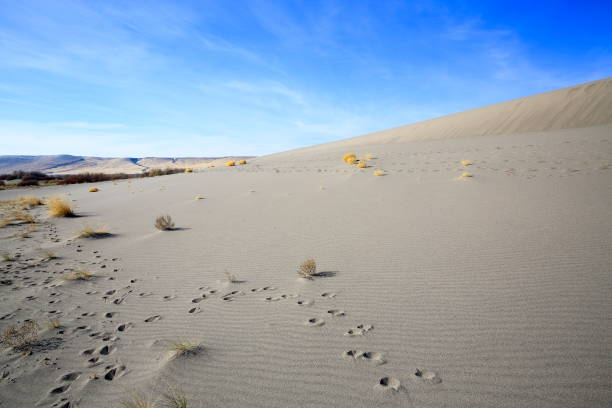human_footprint: (38, 371, 80, 406), (37, 385, 73, 407), (343, 349, 386, 364), (80, 344, 115, 356), (374, 376, 402, 391), (413, 368, 441, 383), (103, 365, 127, 381), (344, 324, 373, 336), (221, 290, 244, 301), (90, 332, 117, 341), (198, 286, 218, 297), (88, 332, 115, 340), (49, 384, 69, 394), (264, 294, 297, 300), (58, 372, 80, 381), (96, 345, 115, 355), (112, 293, 129, 304), (305, 317, 324, 326), (87, 356, 102, 367), (249, 286, 275, 292), (72, 325, 91, 333), (116, 322, 132, 331), (327, 309, 345, 316), (191, 294, 206, 302), (0, 311, 15, 319), (80, 348, 95, 356), (144, 315, 160, 322), (77, 312, 95, 318), (296, 299, 314, 305), (188, 306, 201, 314), (278, 294, 297, 299), (162, 295, 177, 301), (263, 296, 280, 301), (138, 292, 154, 297), (320, 292, 336, 297), (104, 312, 116, 318), (198, 285, 210, 290), (47, 299, 61, 303), (85, 290, 97, 294)
